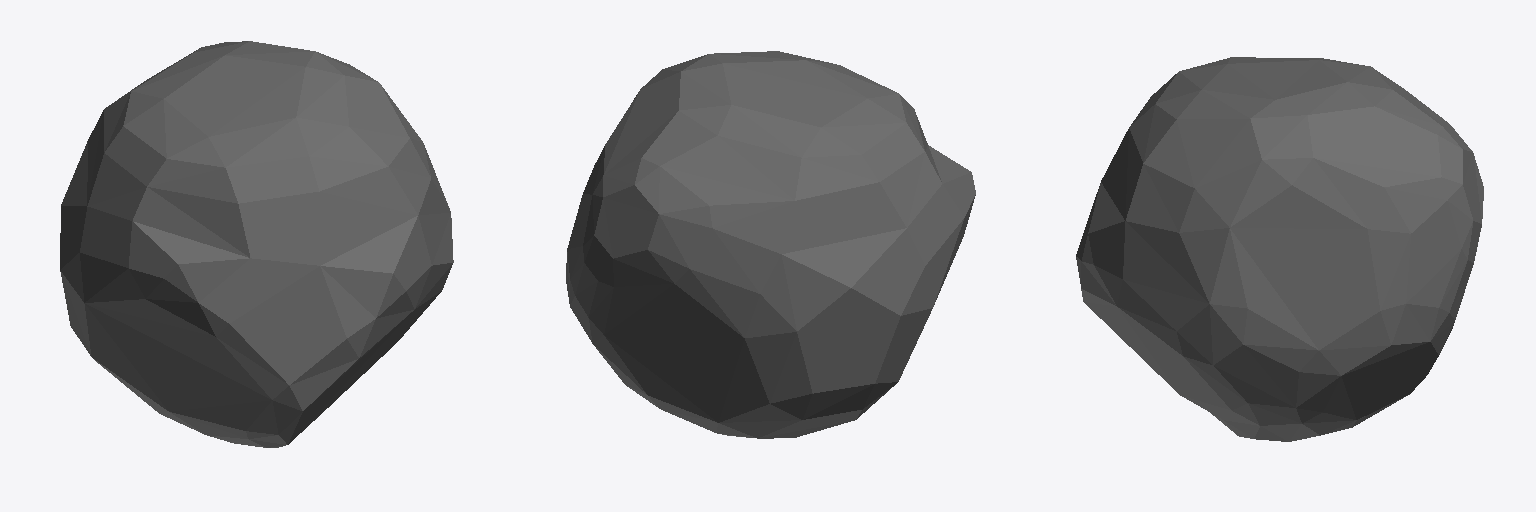
File: rock.obj
3 views of the same model, side by side, from view 1: azimuth 30°, elevation 25°; view 2: azimuth 150°, elevation 25°; view 3: azimuth 270°, elevation 25° (orthographic).
Visible parts, largest first — view 1: Icosphere; view 2: Icosphere; view 3: Icosphere.
Part boxes in pixels (bbox=[...]): Icosphere: bbox=[60, 41, 453, 447]; Icosphere: bbox=[566, 51, 975, 438]; Icosphere: bbox=[1076, 57, 1483, 441].
Size of the model in its own units: 1.48 by 1.51 by 1.55.